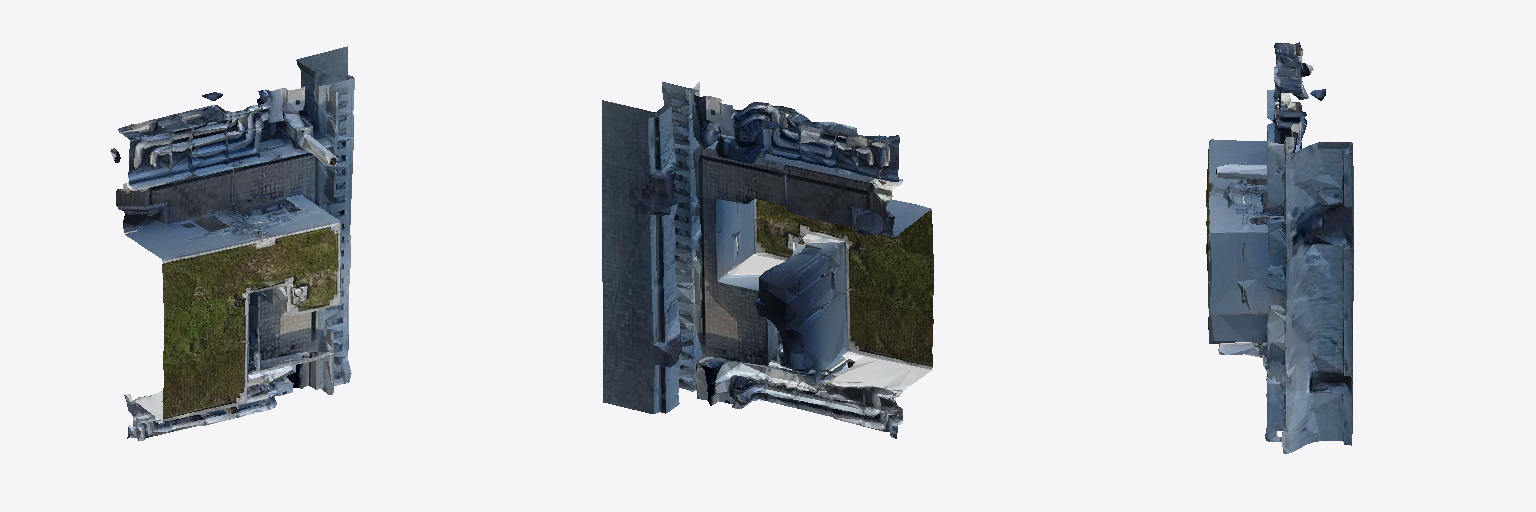
3 renders of one model, left to right at view 1: azimuth 30°, elevation 25°; view 2: azimuth 150°, elevation 25°; view 3: azimuth 270°, elevation 25°, orthographic.
Parts seen in each view (by area): view 1: obj_0; view 2: obj_0; view 3: obj_0.
Boxes of the visible parts, box(x1,y1,x2,y2) form: obj_0: box(110, 46, 354, 440); obj_0: box(602, 82, 933, 438); obj_0: box(1206, 42, 1353, 453).
Bounding box in the file's own units: 20.08 × 22.53 × 9.96.
1 materials, 1 textured.